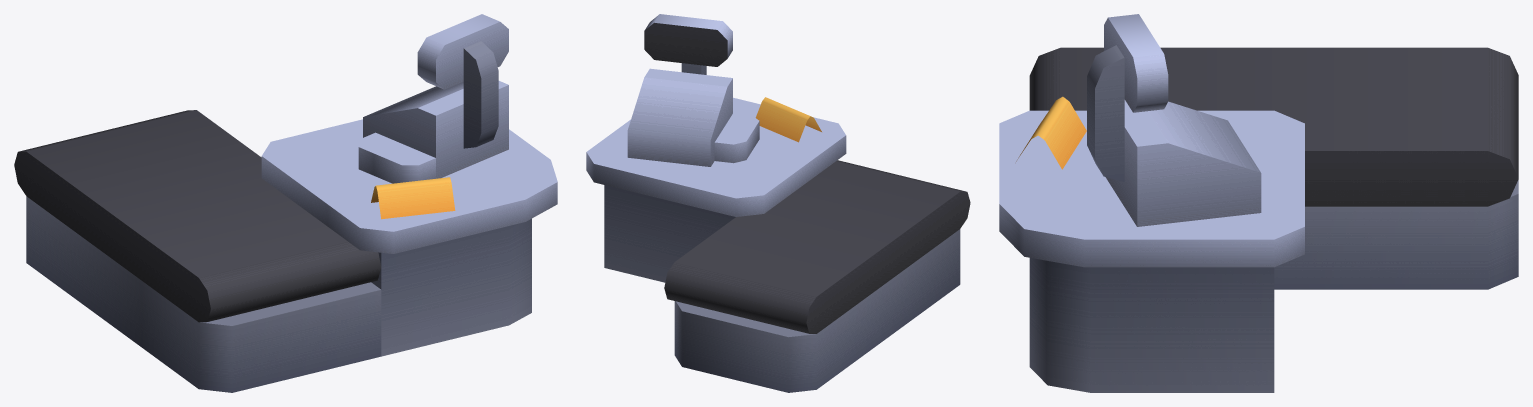
The model's file is cash-register.glb.
3 views of the same model, side by side, from view 1: azimuth 30°, elevation 25°; view 2: azimuth 150°, elevation 25°; view 3: azimuth 270°, elevation 25° (orthographic). The views are drawn at different scales.
Visible parts, largest first — view 1: cash-register; view 2: cash-register; view 3: cash-register.
Boxes of the visible parts, left/top/right/bottom form: cash-register: left=14, top=14, right=557, bottom=392; cash-register: left=586, top=14, right=970, bottom=392; cash-register: left=999, top=14, right=1518, bottom=392.
Size of the model in its own units: 0.85 by 0.5949 by 0.85.
Materials: 1 (1 with a texture image).
